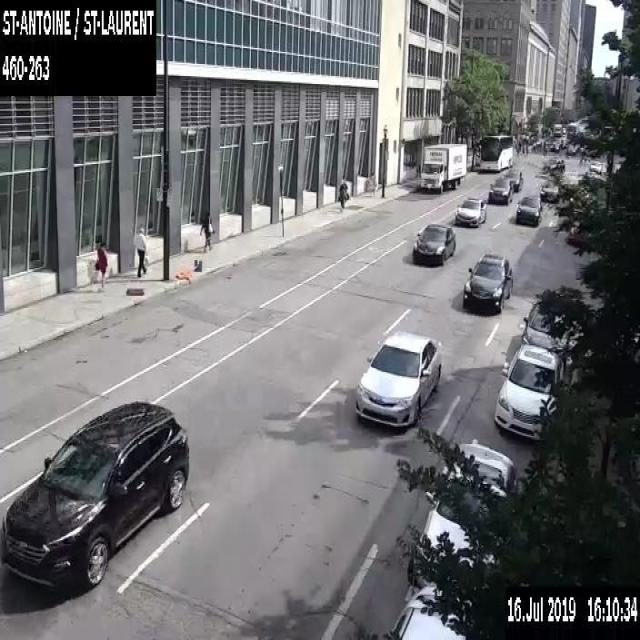bus: (478, 133, 512, 172)
construction: (174, 258, 202, 278)
pedestrian: (134, 224, 148, 278), (94, 239, 107, 288), (198, 212, 213, 253), (338, 177, 348, 209), (542, 139, 545, 151), (521, 142, 524, 154), (539, 140, 542, 151), (525, 143, 528, 154), (515, 144, 518, 155), (518, 139, 520, 151)
vehicle: (0, 400, 190, 592), (406, 443, 516, 585), (351, 327, 444, 432), (494, 344, 564, 442), (388, 581, 472, 639), (461, 250, 514, 318), (520, 299, 569, 371), (418, 140, 467, 193), (411, 221, 456, 267), (514, 190, 542, 226), (454, 197, 486, 226), (488, 176, 512, 203), (566, 220, 588, 248), (500, 168, 522, 191), (541, 156, 564, 173), (540, 182, 559, 202), (589, 160, 607, 173), (549, 139, 559, 151)
